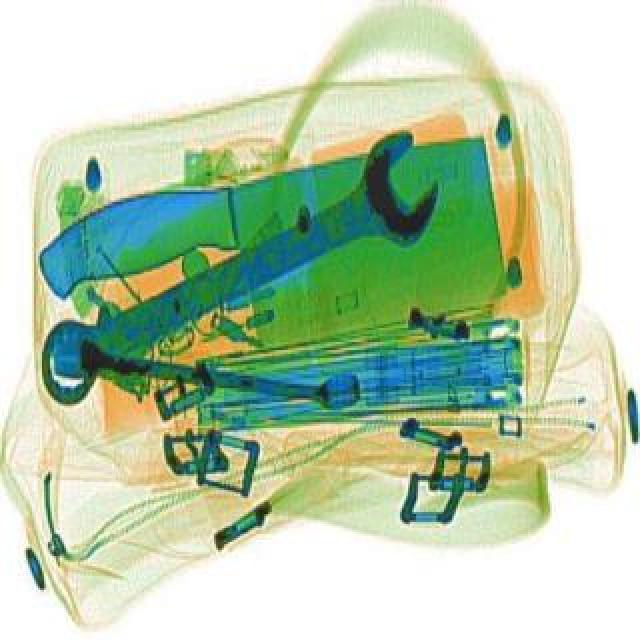knife: (26, 134, 516, 380)
scissors: (10, 120, 466, 424)
